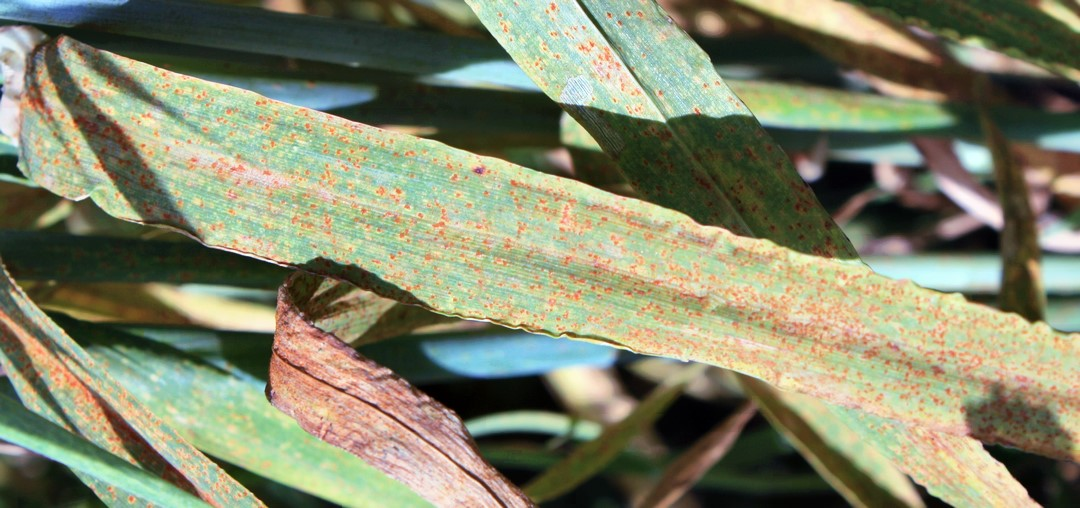Leaf Rust: (114, 94, 984, 407)
